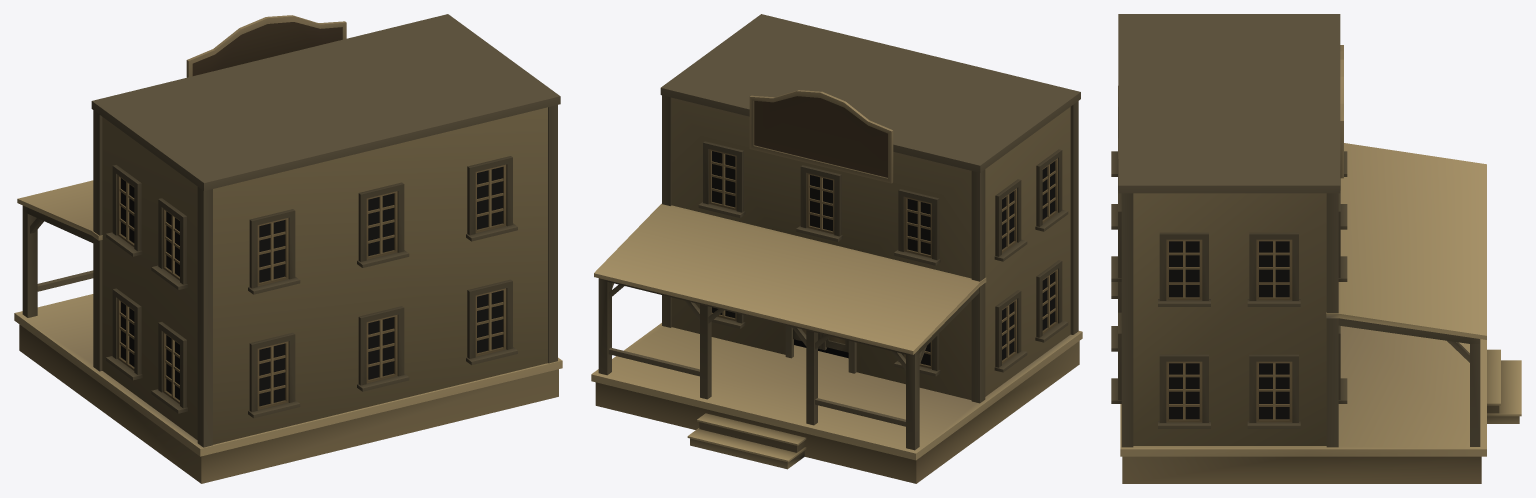
The model's file is saloon.fbx.
3 views of the same model, side by side, from view 1: azimuth 30°, elevation 25°; view 2: azimuth 150°, elevation 25°; view 3: azimuth 270°, elevation 25° (orthographic). The views are drawn at different scales.
Parts seen in each view (by area): view 1: Saloon_Mesh; view 2: Saloon_Mesh; view 3: Saloon_Mesh.
Part boxes in pixels (<box>): Saloon_Mesh: <box>14,14,562,483</box>; Saloon_Mesh: <box>591,14,1082,483</box>; Saloon_Mesh: <box>1111,14,1521,483</box>.
Size of the model in its own units: 1 by 0.8877 by 0.9782.
